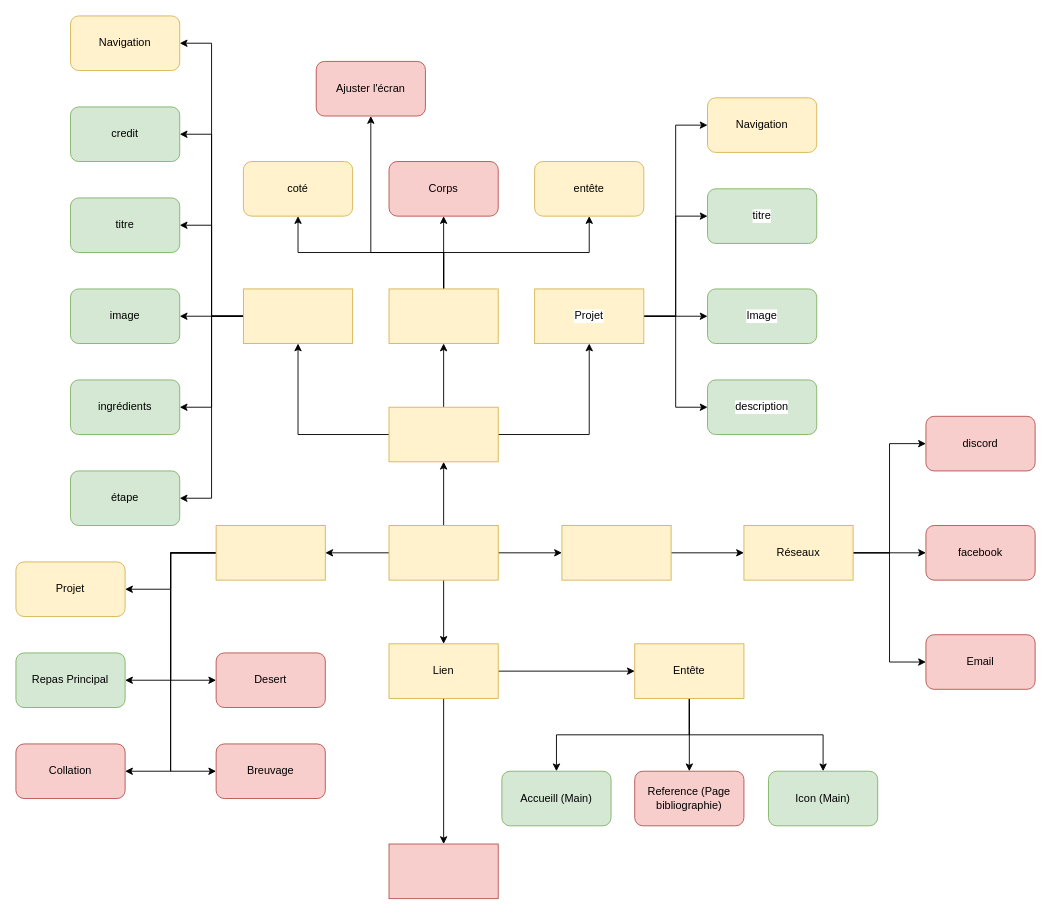
The diagram is 1051 pixels wide and 915 high, and some of its shapes have lost their labels. The box of each missing label's shape, as (x1, y1, x2, y2) in pixels:
Base (Partout): (388, 525, 498, 580)
Bouton: (561, 525, 671, 580)
Contenue: (215, 525, 325, 580)
Corps (Navigation): (388, 843, 498, 899)
Main: (388, 288, 498, 344)
Plats: (243, 288, 353, 344)
structure: (388, 406, 498, 462)
